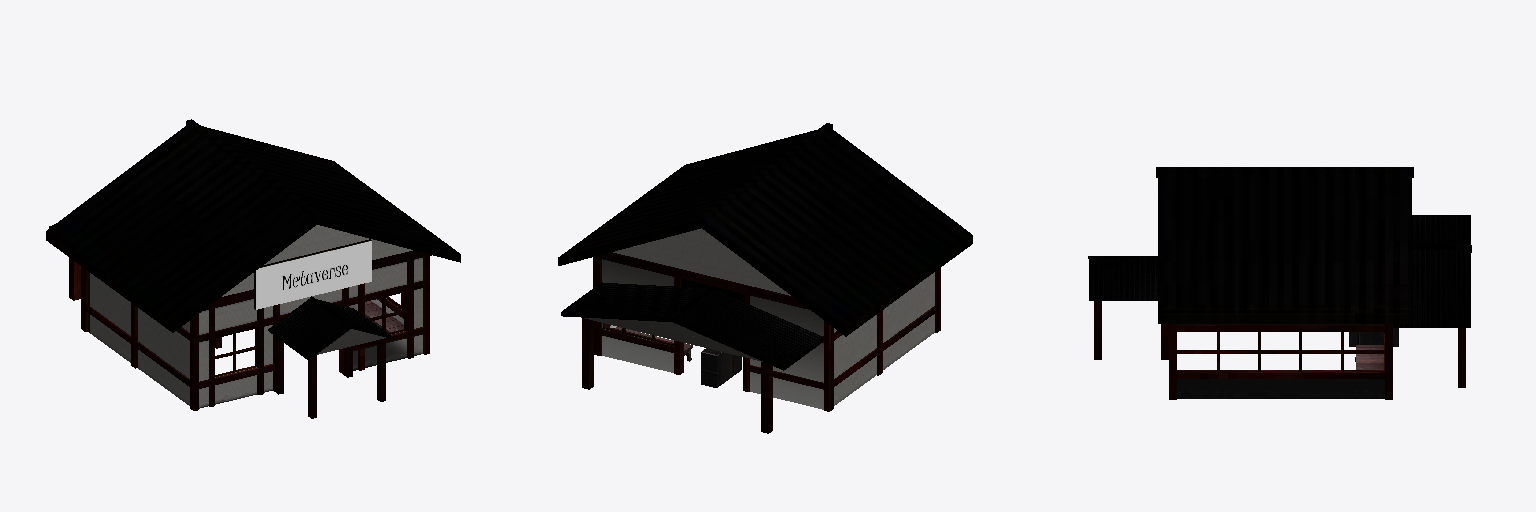
3 renders of one model, left to right at view 1: azimuth 30°, elevation 25°; view 2: azimuth 150°, elevation 25°; view 3: azimuth 270°, elevation 25°, orthographic.
Bounding box in the file's own units: 8.07 × 4.66 × 9.29.
1 materials, 1 textured.